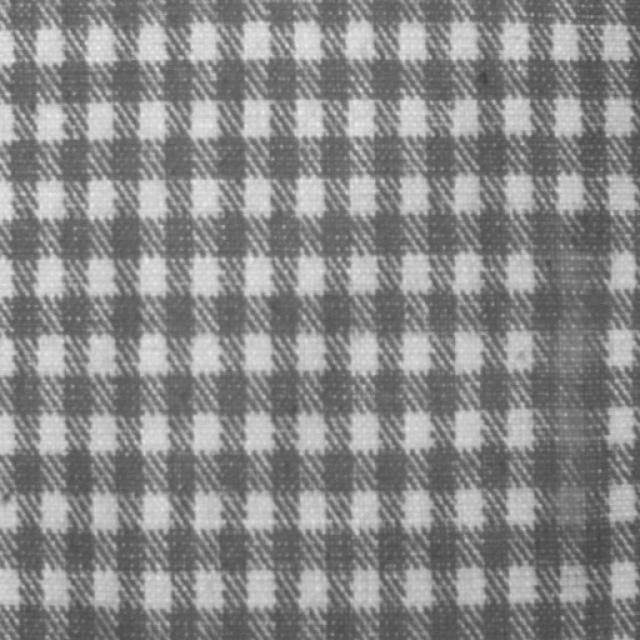Stain-Defect: (551, 249, 591, 531)
